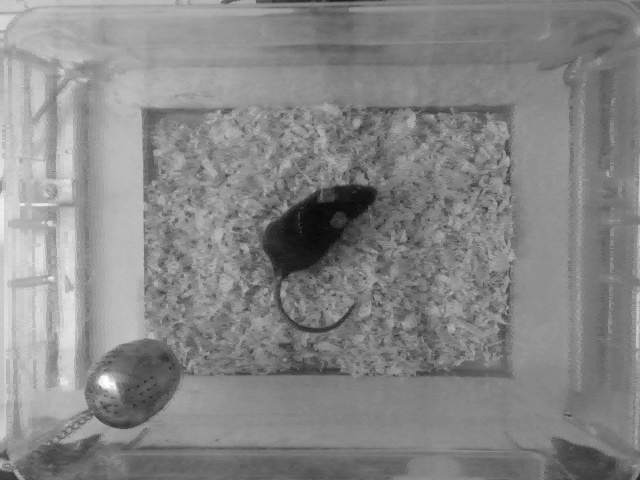mice: (263, 181, 378, 334)
